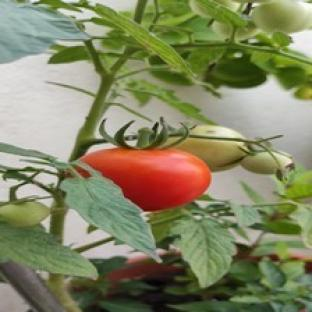Tomato: (80, 148, 211, 211), (176, 126, 246, 171), (0, 201, 50, 227), (241, 151, 293, 174), (236, 23, 260, 40)
